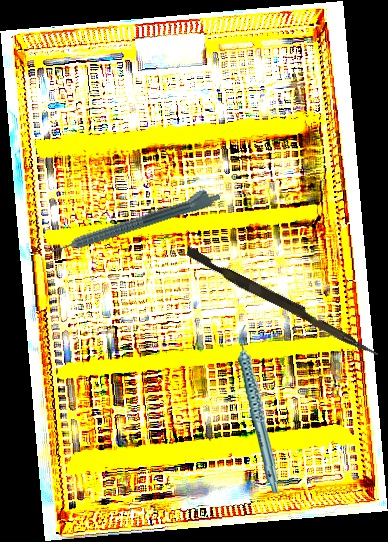Handpiece: (47, 183, 222, 258), (235, 325, 282, 493)
Pusher: (183, 246, 383, 359)
